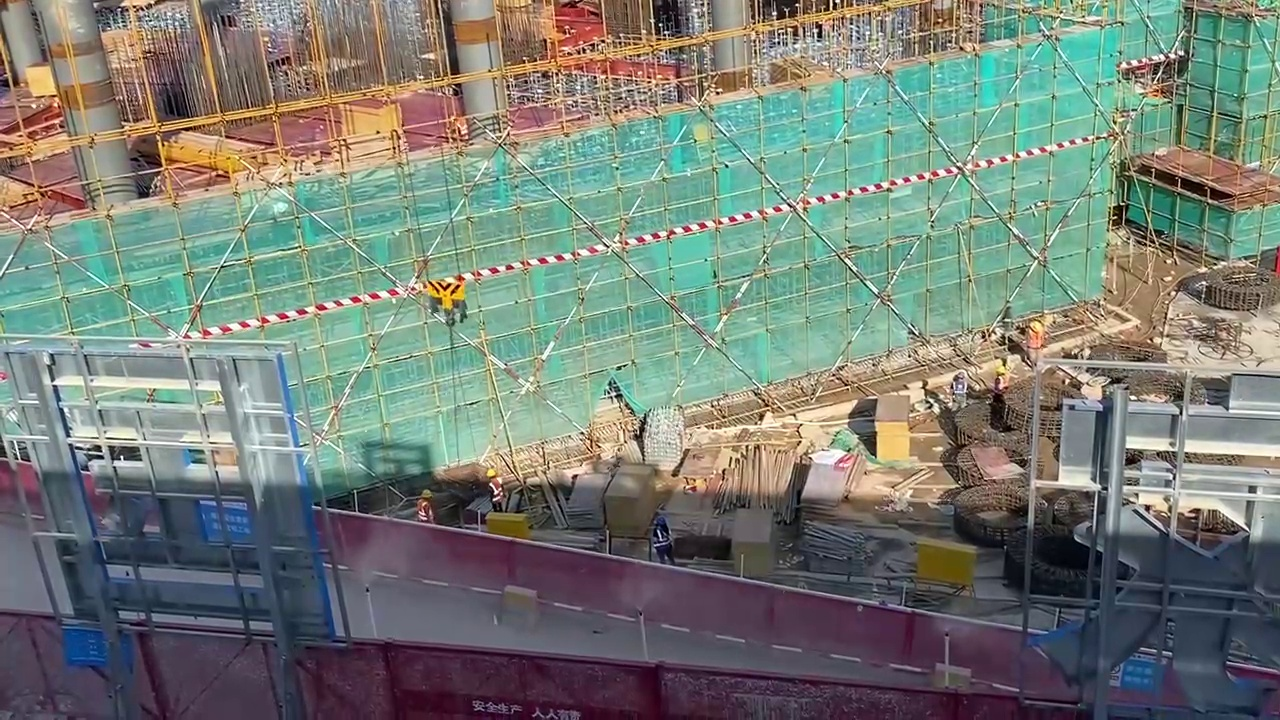board: (873, 392, 912, 462)
fence: (5, 610, 1042, 718)
hook: (427, 280, 466, 311)
person: (652, 515, 673, 563), (484, 467, 506, 509), (413, 487, 435, 525)
wood: (730, 448, 801, 530)
